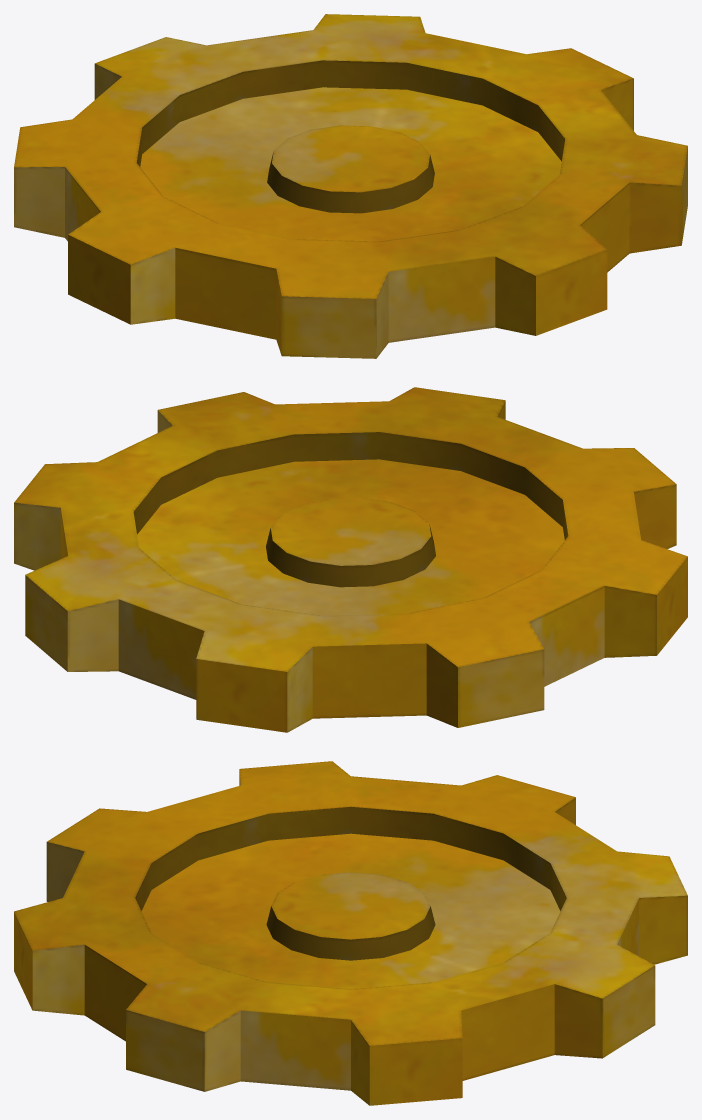
The model's file is Cog.fbx.
3 renders of one model, top to bottom at view 1: azimuth 30°, elevation 25°; view 2: azimuth 150°, elevation 25°; view 3: azimuth 270°, elevation 25°, orthographic.
Visible parts, largest first — view 1: Cylinder.009; view 2: Cylinder.009; view 3: Cylinder.009.
Boxes of the visible parts, box(x1,y1,x2,y2) form: Cylinder.009: box(14, 14, 687, 358); Cylinder.009: box(14, 387, 687, 732); Cylinder.009: box(14, 761, 687, 1105).
Bounding box in the file's own units: 43.38 × 5.04 × 43.38.
